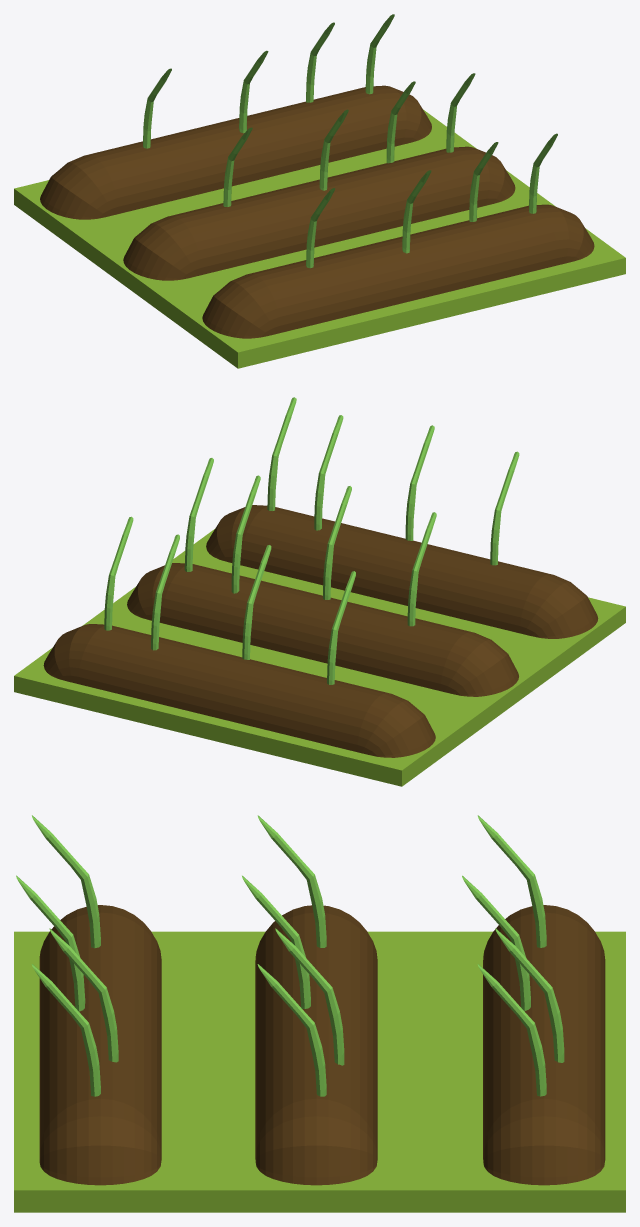
Rendered from wheatFarm.fbx.
The picture shows the model from 3 angles, top to bottom: view 1: azimuth 30°, elevation 25°; view 2: azimuth 150°, elevation 25°; view 3: azimuth 270°, elevation 25°; orthographic projection. The views are drawn at different scales.
Parts seen in each view (by area): view 1: Cylinder.002; view 2: Cylinder.002; view 3: Cylinder.002.
Part boxes in pixels (x1,y1,x2,y2): Cylinder.002: (14,14,625,368); Cylinder.002: (14,397,625,786); Cylinder.002: (14,815,625,1212).
Bounding box in the file's own units: 200 × 74.45 × 200.
